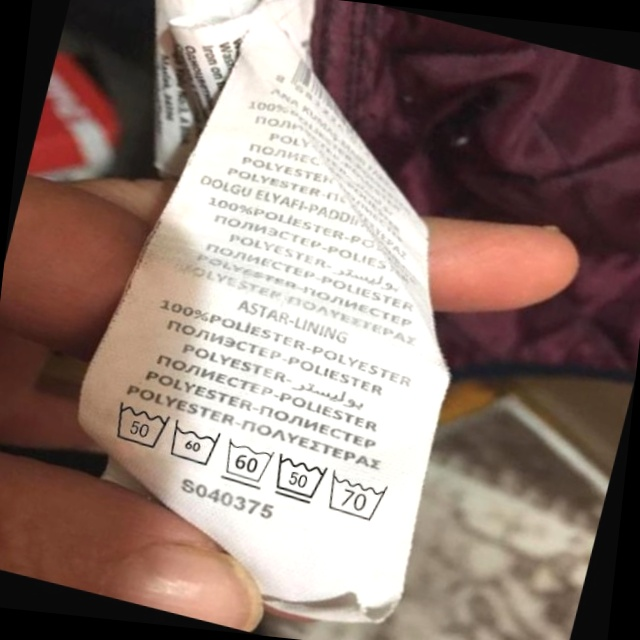50C: (103, 392, 177, 457), (266, 448, 334, 511)
60C: (216, 433, 281, 493), (162, 415, 228, 474)
70C: (322, 467, 397, 528)
